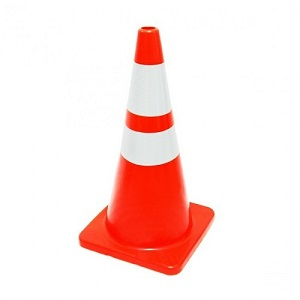traffic cone: (78, 26, 213, 276)
